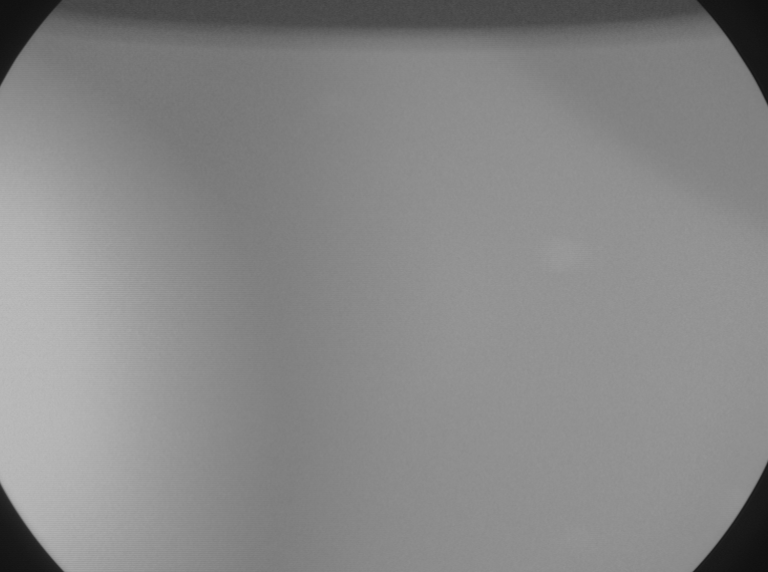defect: (308, 80, 348, 123)
